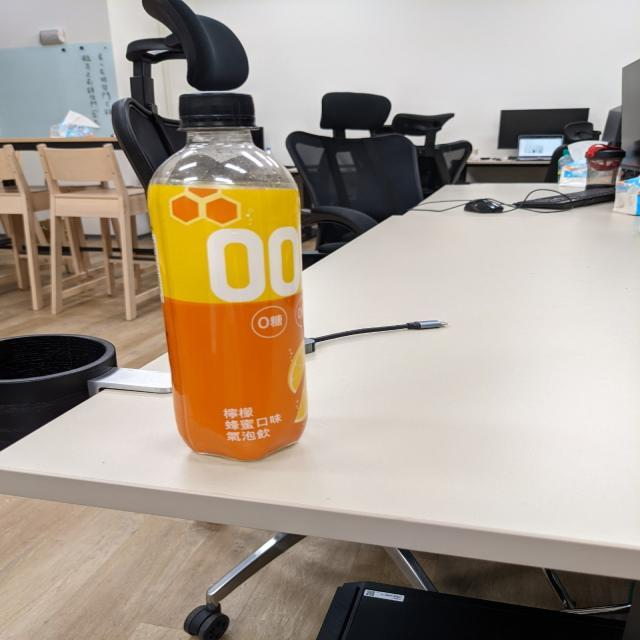good: (134, 85, 338, 475)
